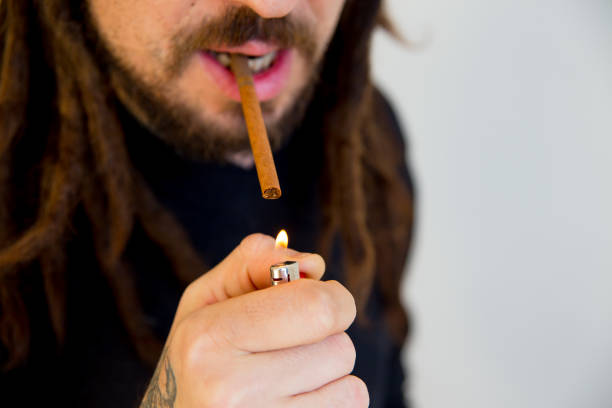cigarette: (228, 54, 282, 201)
